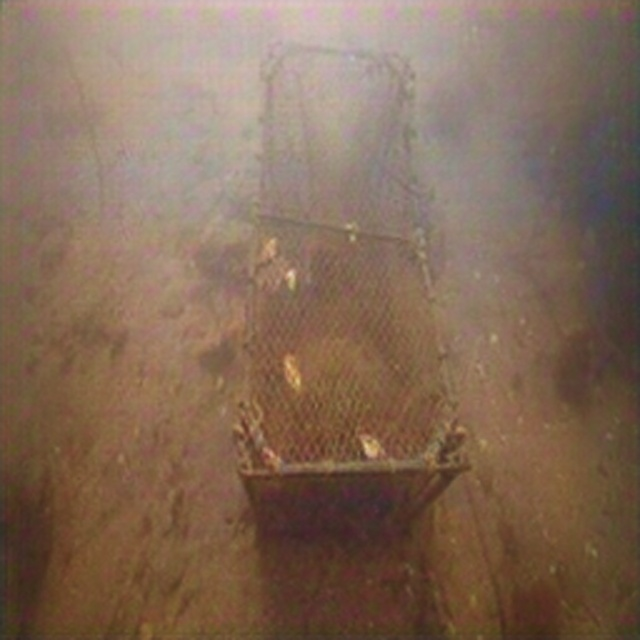mine: (234, 37, 471, 533)
